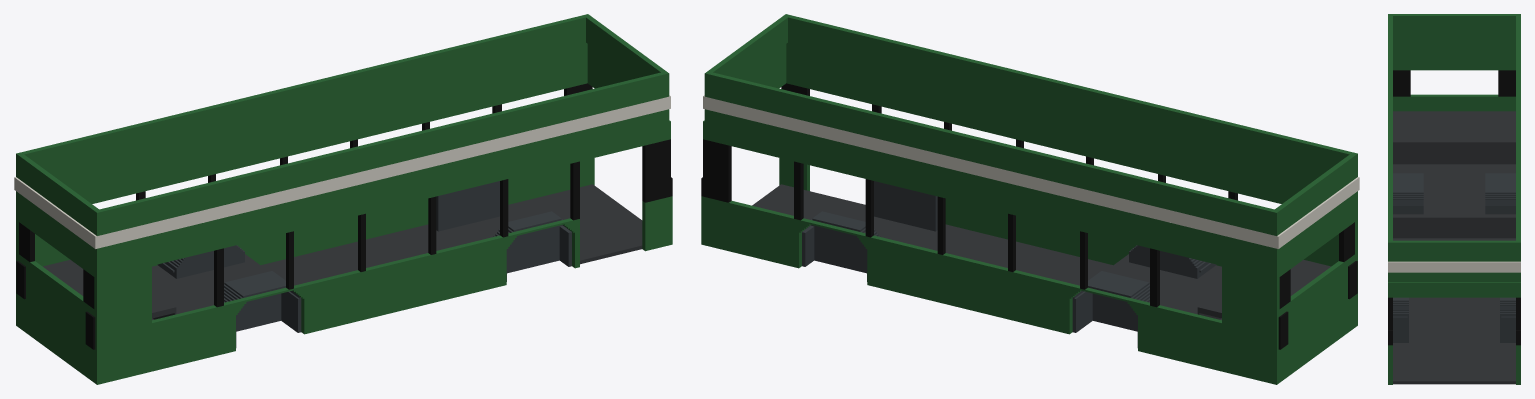
File: tour_bus_open_top_shell.glb
3 views of the same model, side by side, from view 1: azimuth 30°, elevation 25°; view 2: azimuth 150°, elevation 25°; view 3: azimuth 270°, elevation 25° (orthographic). The views are drawn at different scales.
Visible parts, largest first — view 1: body:compound; view 2: body:compound; view 3: body:compound.
Part boxes in pixels (<box>): body:compound: <box>14,14,672,384</box>; body:compound: <box>701,14,1359,384</box>; body:compound: <box>1388,14,1520,384</box>.
Bounding box in the file's own units: 10.53 × 3 × 2.56.
